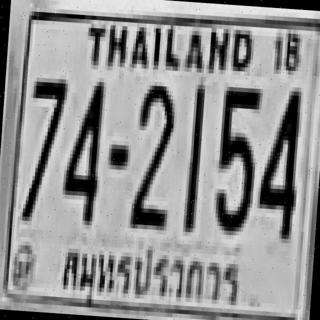N01: (182, 82, 204, 230)
N02: (129, 80, 175, 226)
N04: (255, 85, 301, 235), (60, 75, 103, 221)
N05: (212, 82, 260, 232)
N07: (22, 73, 66, 218)
P57: (57, 238, 245, 316)
